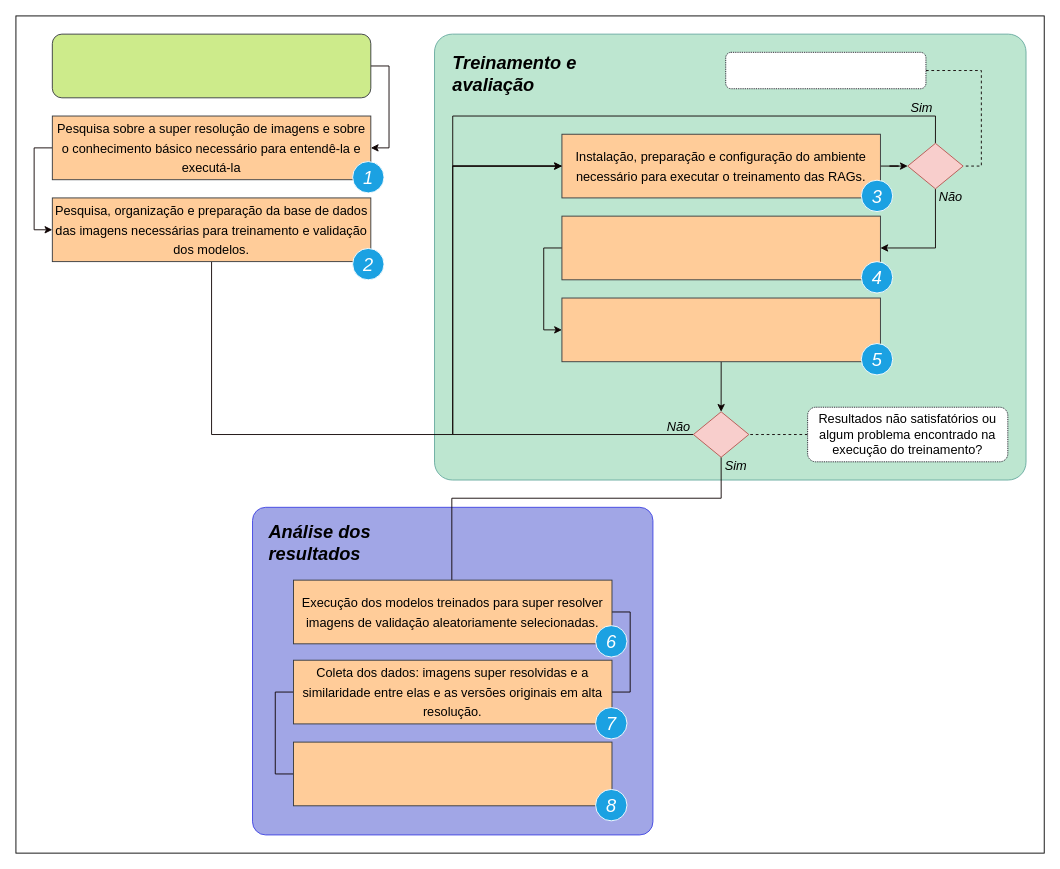
Image size: 1060x869. Some labels were removed from this diagram. The box of each missing label's shape, as (x1, y1, x2, y2) in pixels:
Análise da execução do treinamento (logs, resultados intermediários etc.).: (561, 297, 880, 362)
Construção de gráficos e a análise destes.: (293, 741, 612, 806)
Execução do treinamento das RAGs com as bases de dados escolhidas e preparadas.: (561, 215, 880, 280)
Início: (51, 33, 371, 98)
Problemas de compatibilidade ou instalação não funcionando?: (725, 51, 926, 89)
